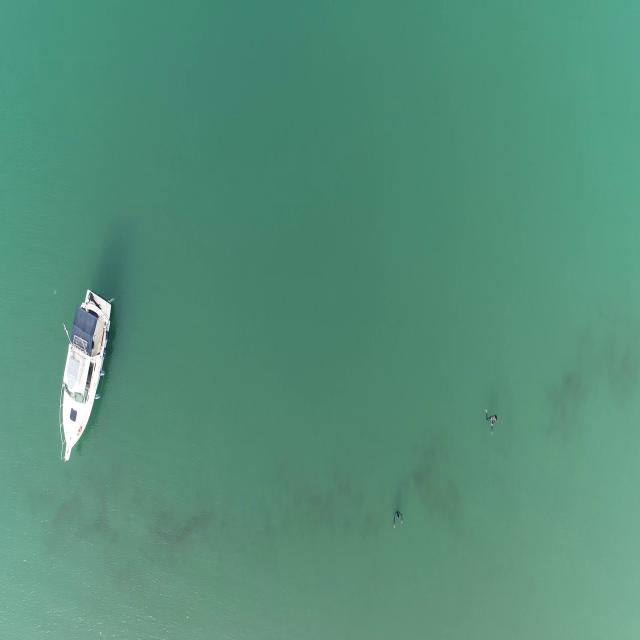boat: (54, 289, 115, 464)
person: (483, 410, 497, 432), (391, 510, 404, 532)
